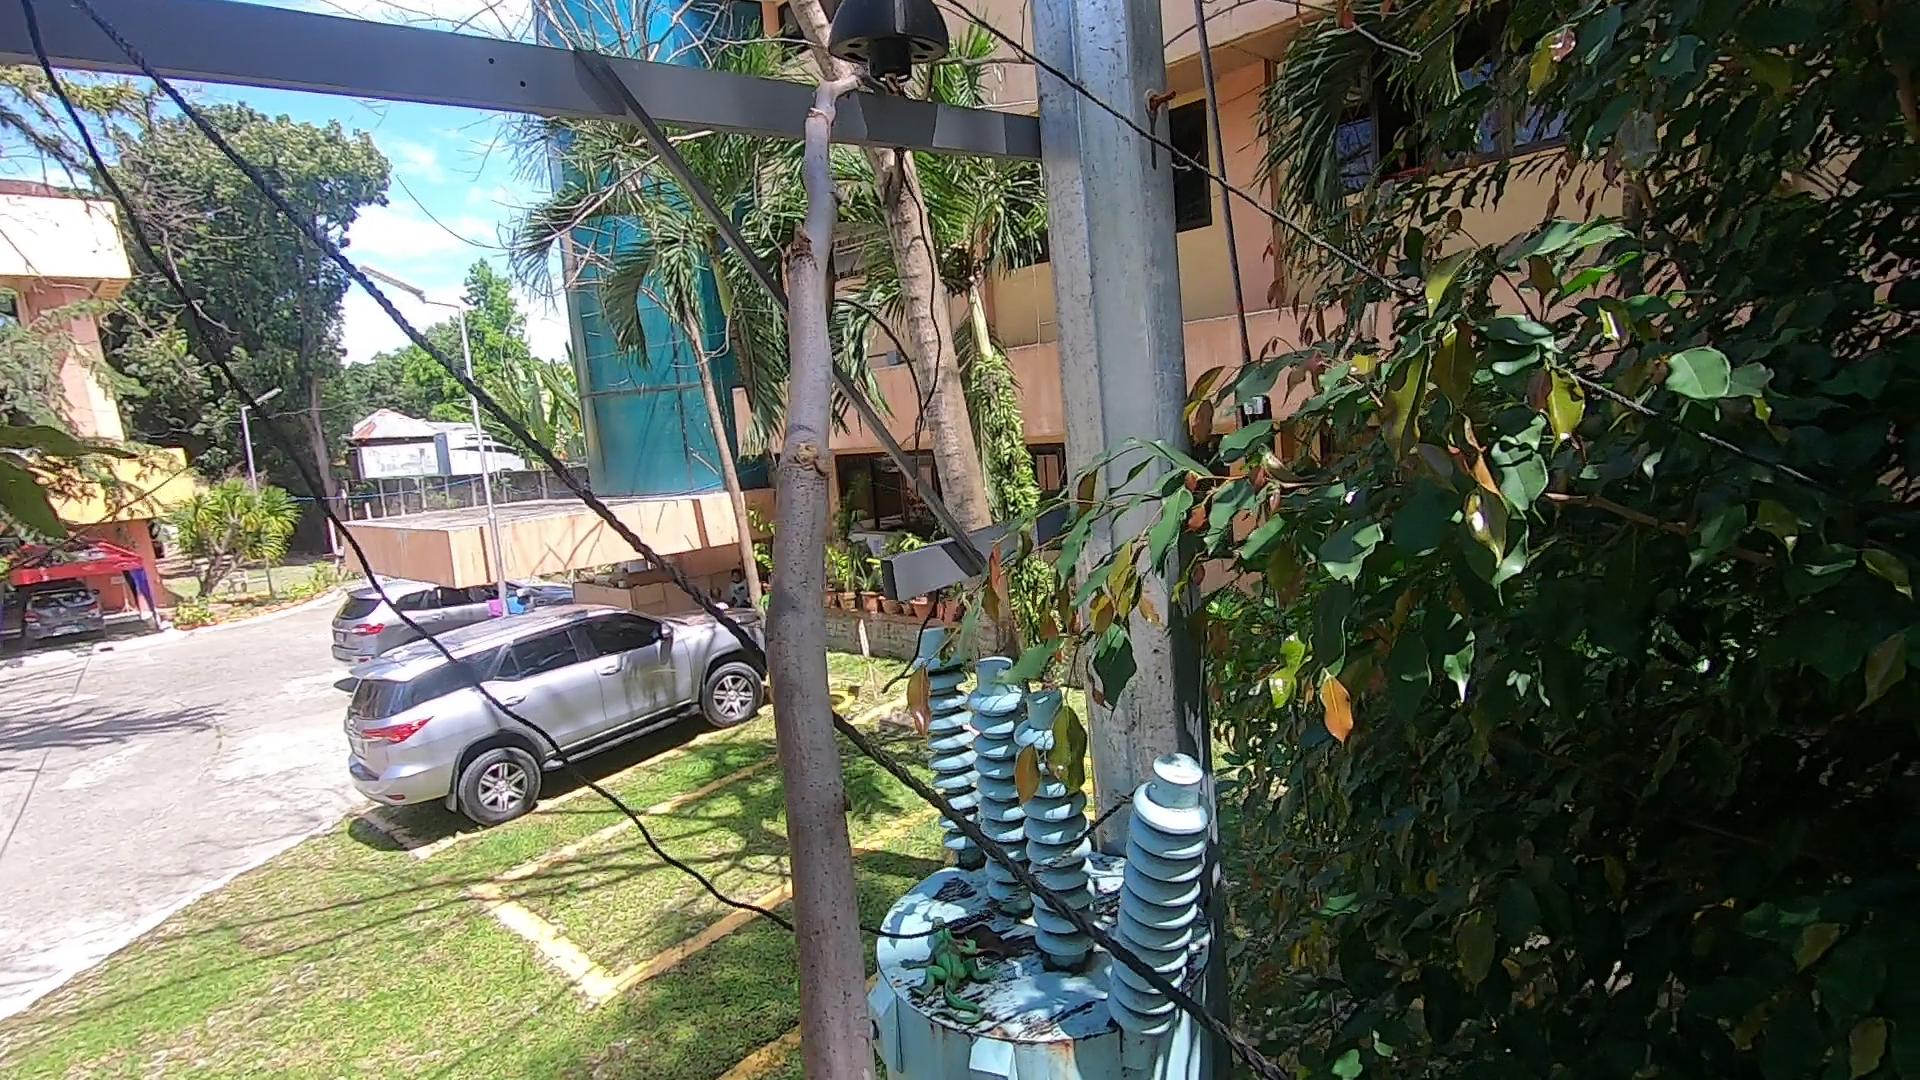branch with leaves: (934, 476, 1182, 847)
leaf: (947, 911, 1031, 963), (1089, 893, 1133, 928), (943, 851, 986, 874)
tree branch: (752, 36, 945, 1080)
